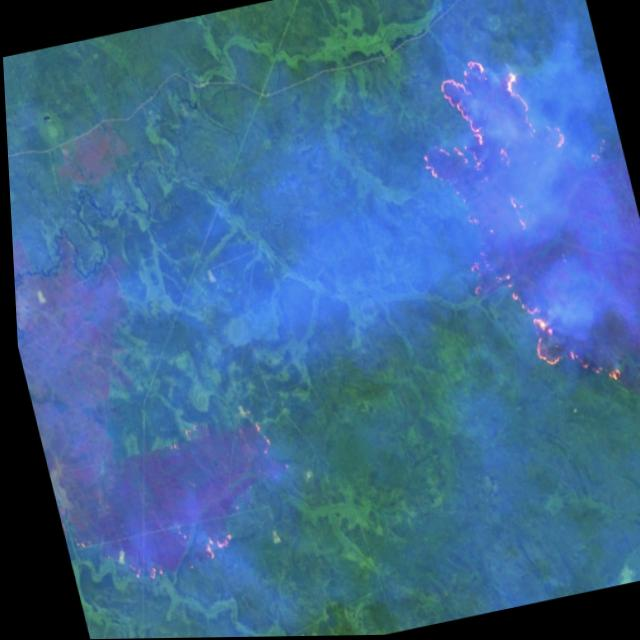fire: (389, 34, 636, 425)
